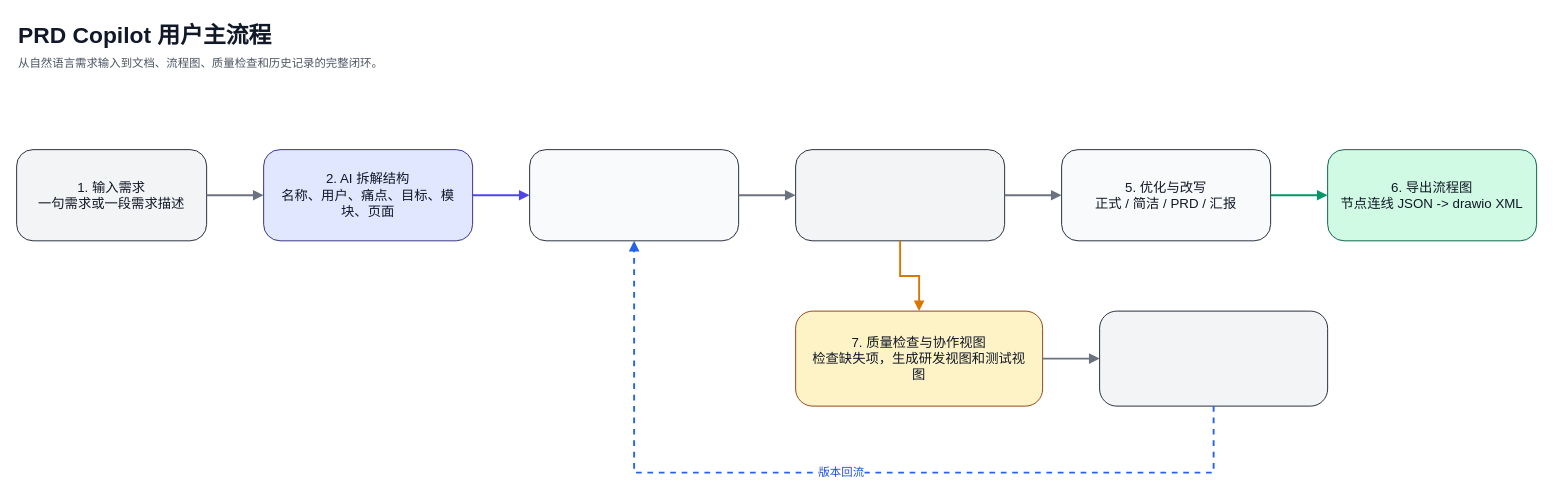
This 1553x497 diagram has some shape labels left out. The box of each missing label's shape, as (x1, y1, x2, y2) in pixels:
3. 用户确认调整 补缺失项、删无关项、改字段: (529, 149, 739, 241)
4. 生成产品文档 固定输出 8 个模块: (795, 149, 1005, 241)
8. 历史记录 保存输入、文档版本、流程图版本: (1099, 310, 1328, 406)
